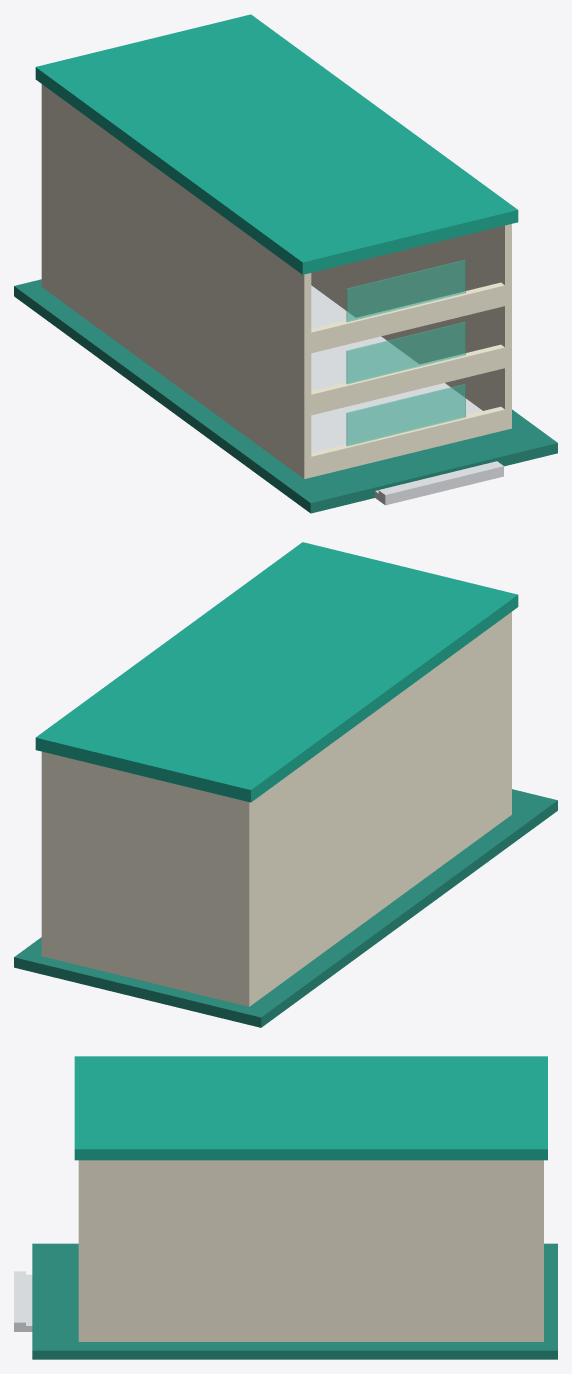
The model's file is gedung_fakultas_syariah.glb.
The picture shows the model from 3 angles, top to bottom: view 1: azimuth 30°, elevation 25°; view 2: azimuth 150°, elevation 25°; view 3: azimuth 270°, elevation 25°; orthographic projection. The views are drawn at different scales.
Parts seen in each view (by area): view 1: Gedung_Fakultas_Syariah, Undakan_Stairs; view 2: Gedung_Fakultas_Syariah; view 3: Gedung_Fakultas_Syariah, Undakan_Stairs.
Boxes of the visible parts, x1,y1,x2,y2 form: Gedung_Fakultas_Syariah: (14,14,557,513); Undakan_Stairs: (375,461,503,505); Gedung_Fakultas_Syariah: (14,542,557,1027); Gedung_Fakultas_Syariah: (32,1056,557,1359); Undakan_Stairs: (14,1271,32,1331).
Bounding box in the file's own units: 12.5 × 11.1 × 26.9.
